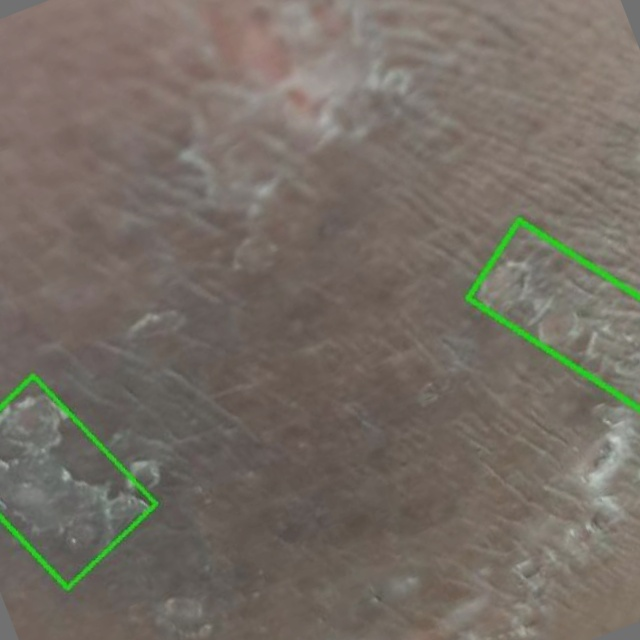Tinea Corporis: (0, 374, 157, 588), (469, 220, 639, 408)
